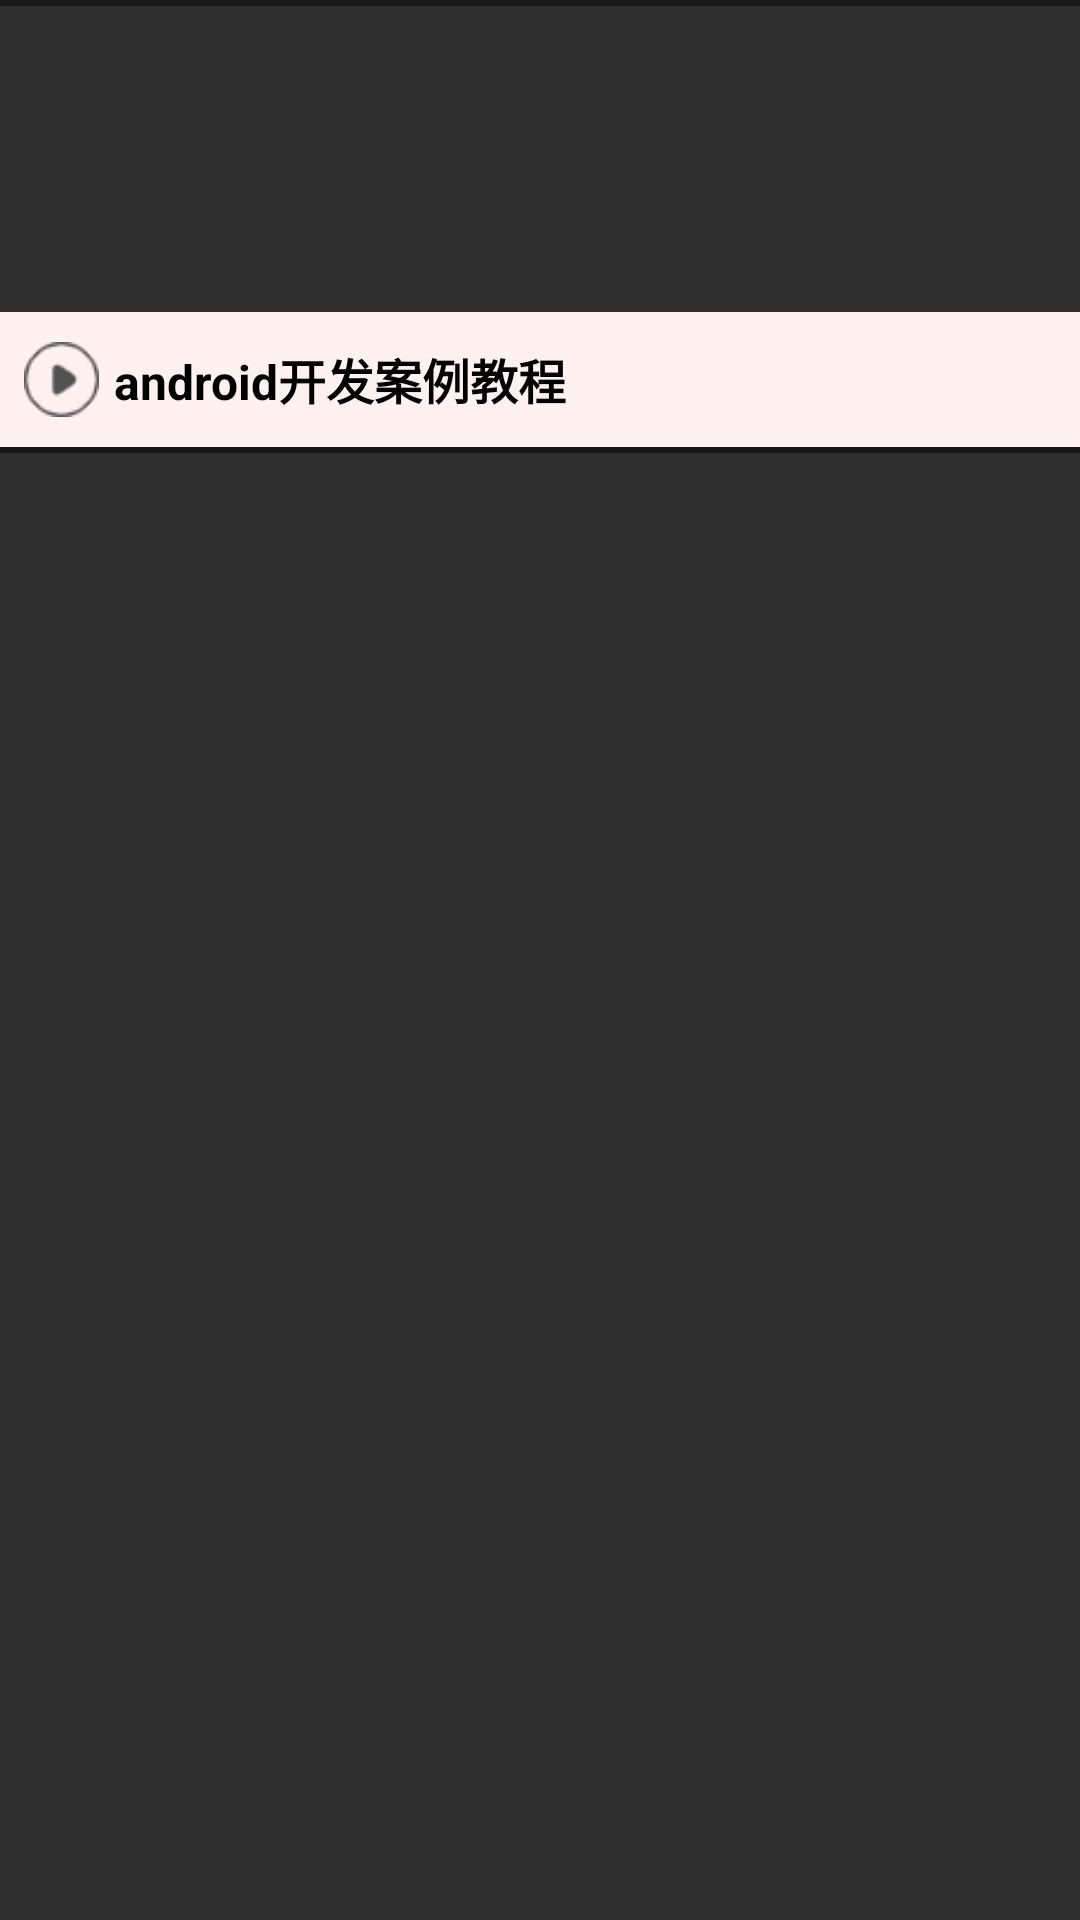

Point at icon controls on the screen. Image size 1080w x 1920h, points as (x=x, y=y).
play video: (x=61, y=379)
